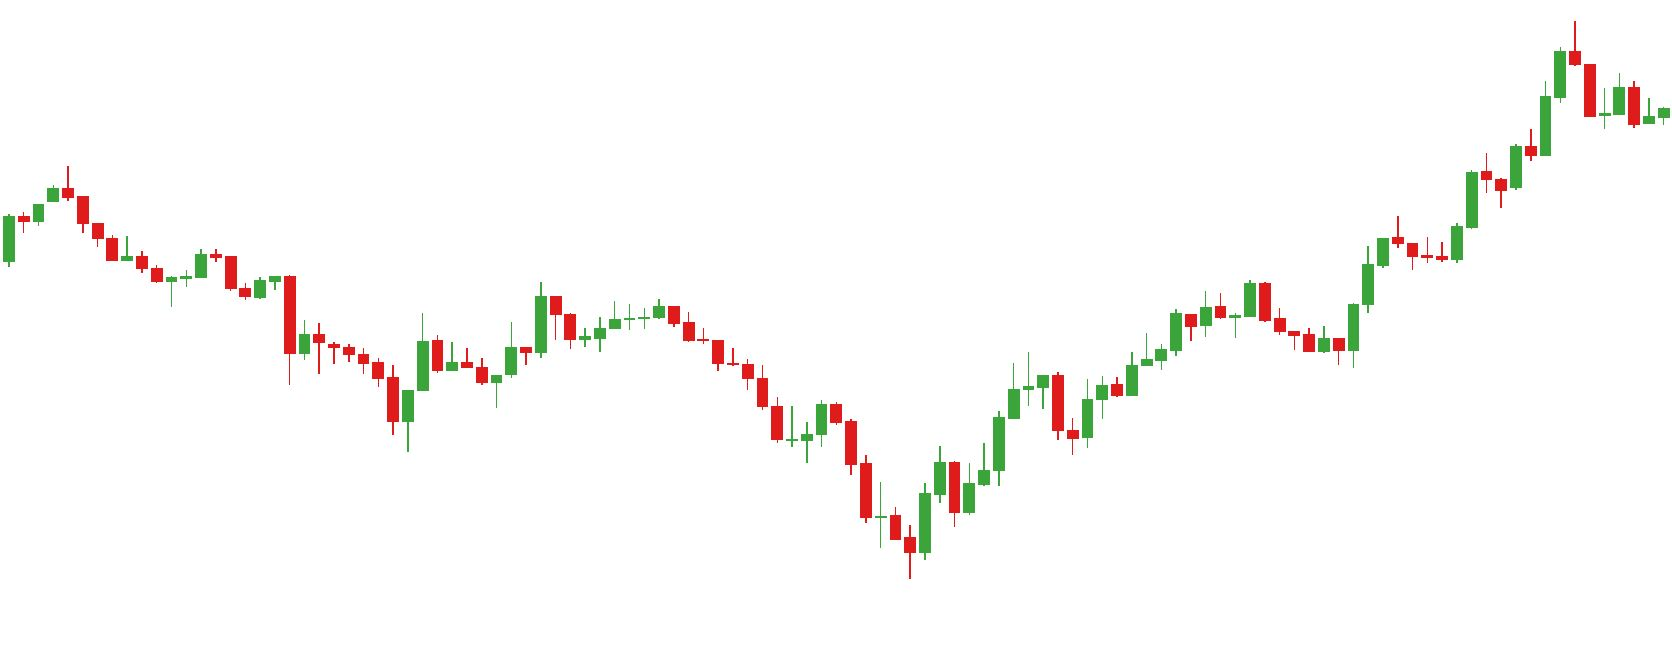buy: (284, 328, 431, 456)
